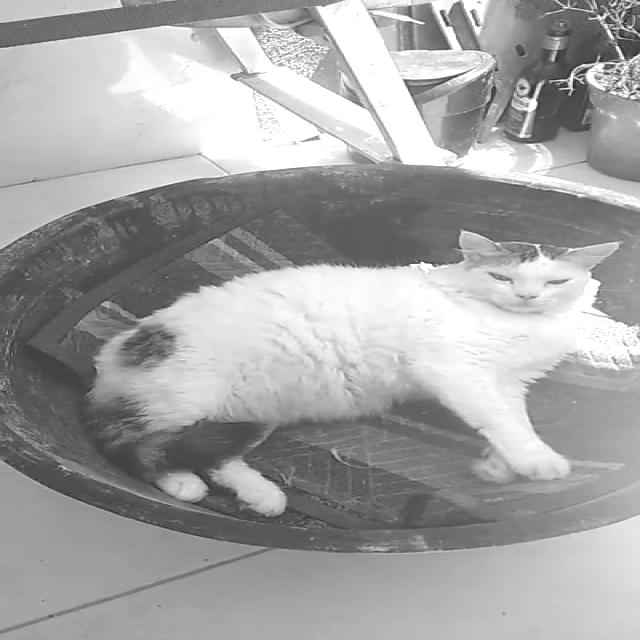Simba: (76, 211, 638, 525)
